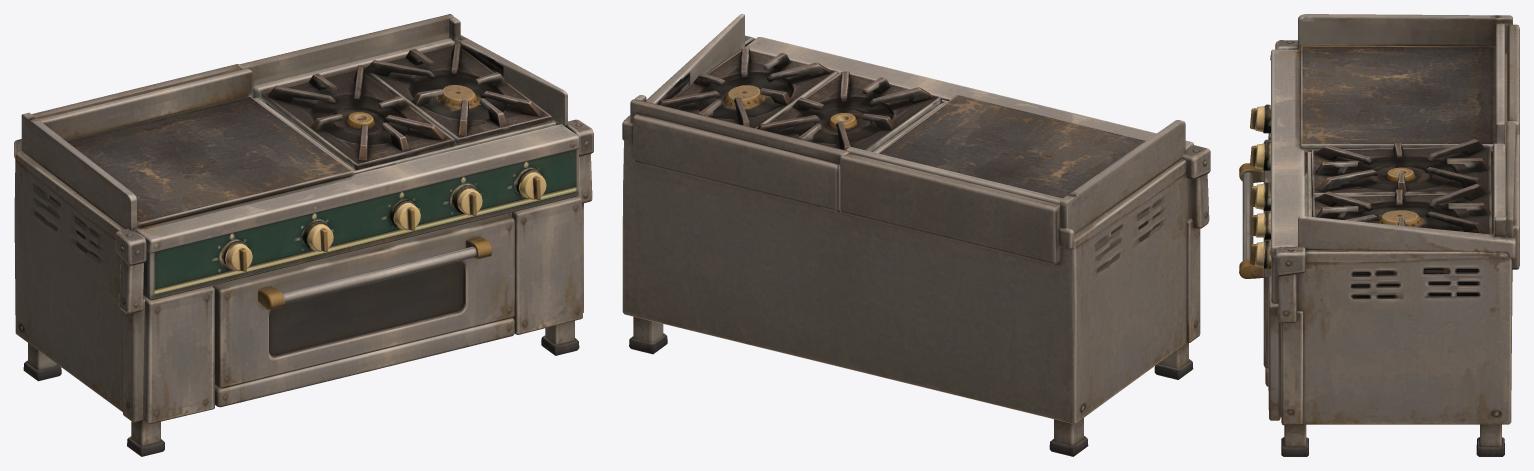
The model's file is P15_grill_oven_range_Runtime_1k.glb.
3 views of the same model, side by side, from view 1: azimuth 30°, elevation 25°; view 2: azimuth 150°, elevation 25°; view 3: azimuth 270°, elevation 25° (orthographic). The views are drawn at different scales.
Visible parts, largest first — view 1: tripo_node_485815da; view 2: tripo_node_485815da; view 3: tripo_node_485815da.
Part boxes in pixels (x1,y1,x2,y2): tripo_node_485815da: (14, 14, 593, 456); tripo_node_485815da: (622, 14, 1210, 456); tripo_node_485815da: (1239, 14, 1519, 456).
Bounding box in the file's own units: 1.89 × 0.984 × 1.04.
1 material, 1 textured.
